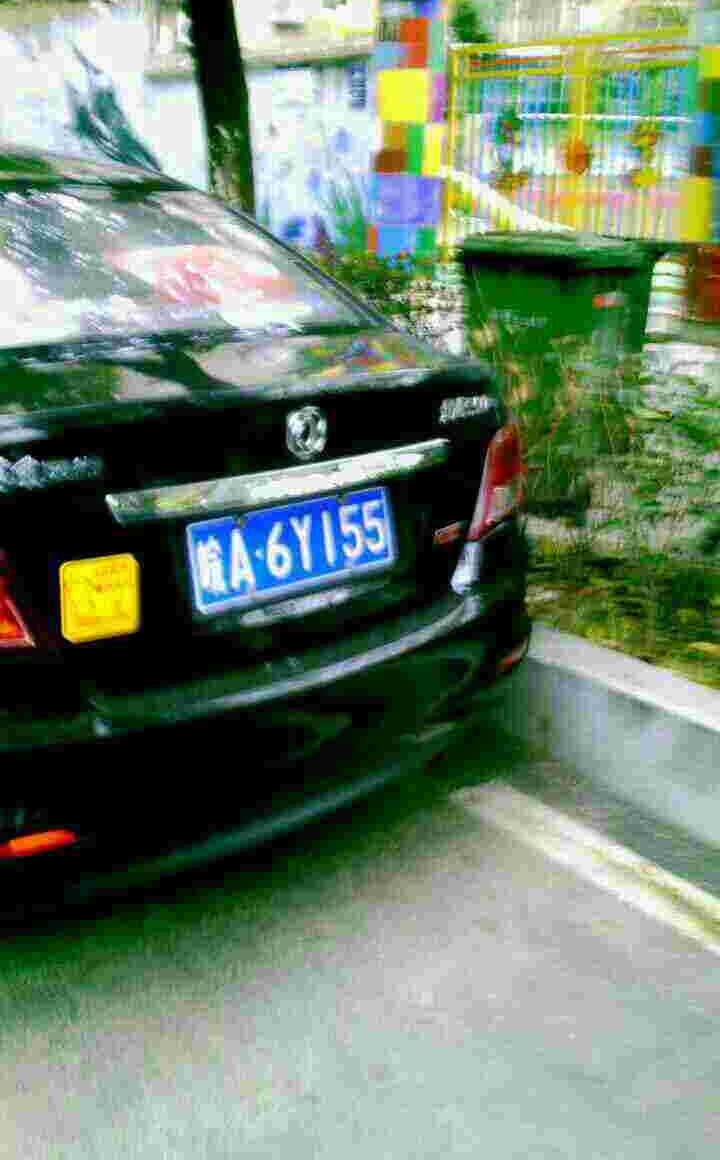plate: (196, 480, 404, 610)
